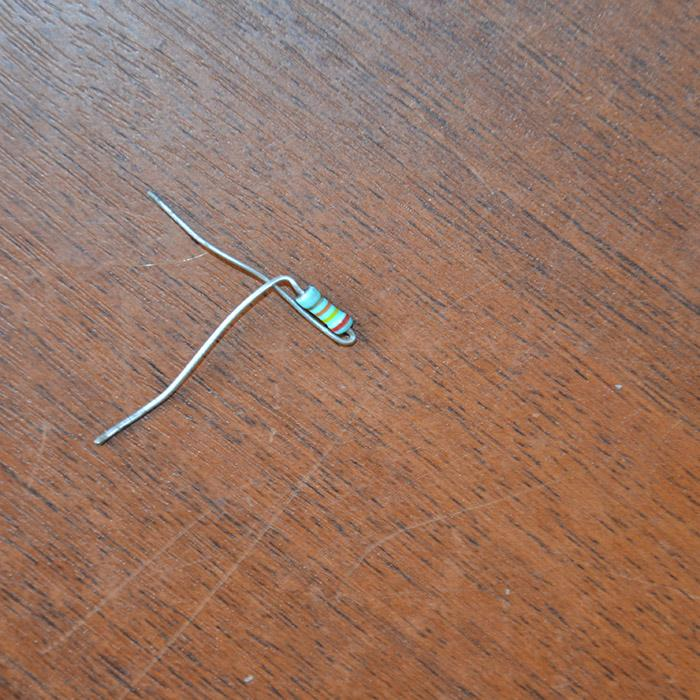resistor: (295, 284, 352, 336)
